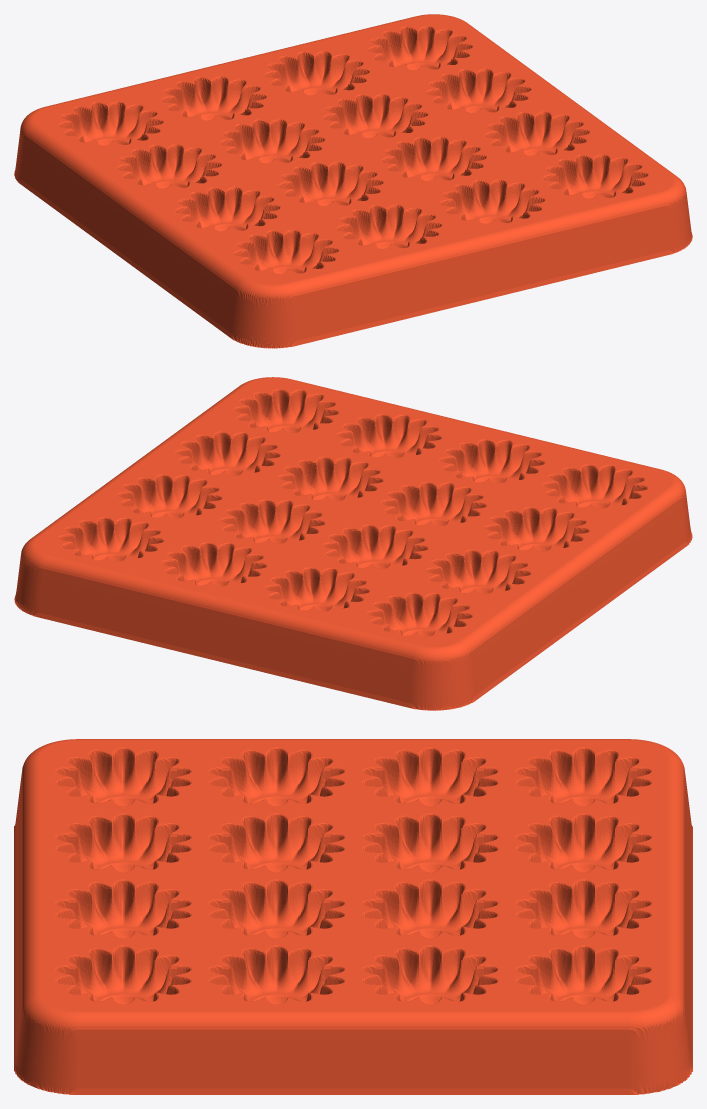
Rendered from mold.glb.
3 views of the same model, one above another, from view 1: azimuth 30°, elevation 25°; view 2: azimuth 150°, elevation 25°; view 3: azimuth 270°, elevation 25° (orthographic). The views are drawn at different scales.
Visible parts, largest first — view 1: geometry_0; view 2: geometry_0; view 3: geometry_0.
Part boxes in pixels (x1=…): geometry_0: x1=14, y1=14, x2=692, y2=348; geometry_0: x1=14, y1=377, x2=692, y2=710; geometry_0: x1=14, y1=739, x2=692, y2=1094.
Bounding box in the file's own units: 0.0972 × 0.0114 × 0.0956.
